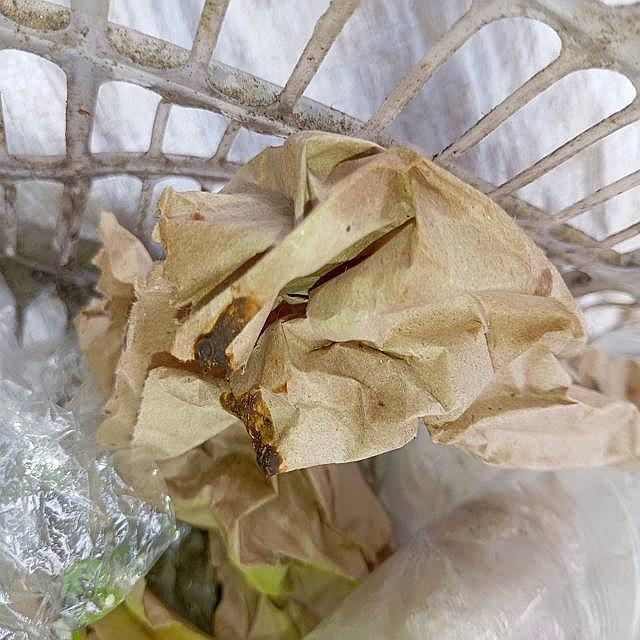Biodegradable: (53, 83, 610, 565)
